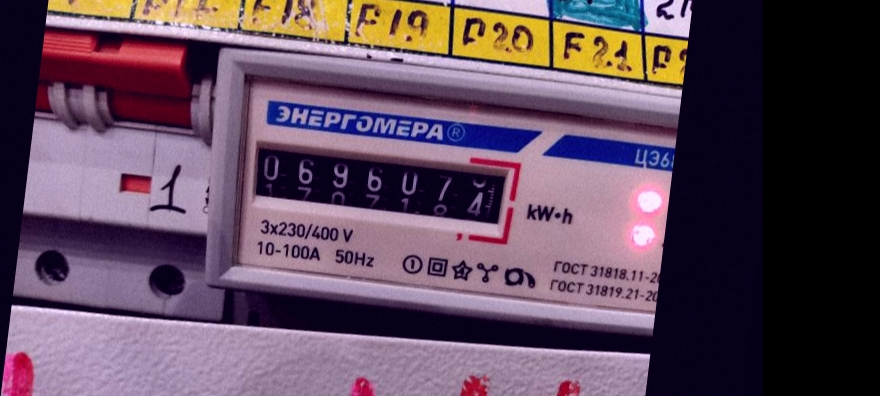0: (397, 164, 420, 197), (259, 151, 280, 181)
4: (464, 188, 483, 217)
6: (362, 162, 385, 193), (294, 154, 316, 184)
7: (433, 171, 453, 203)
9: (329, 159, 349, 189)
screen: (233, 121, 527, 244)
